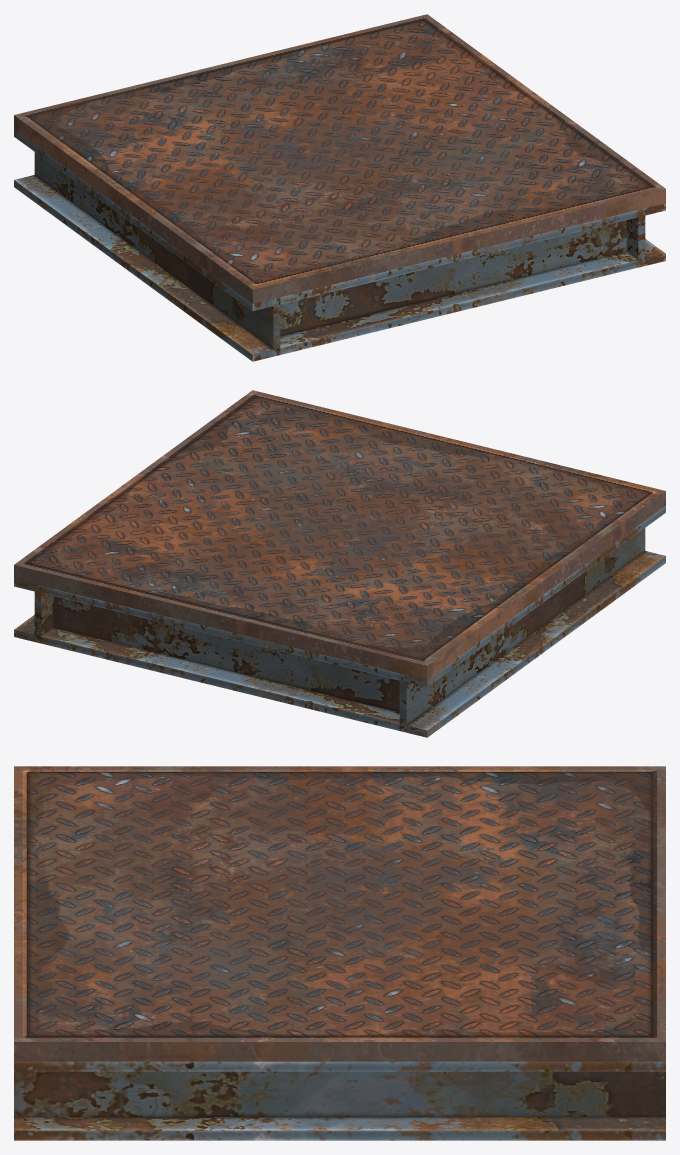
Rendered from platform_1.5x1.5m.fbx.
3 renders of one model, top to bottom at view 1: azimuth 30°, elevation 25°; view 2: azimuth 150°, elevation 25°; view 3: azimuth 270°, elevation 25°, orthographic. The views are drawn at different scales.
Parts seen in each view (by area): view 1: platform_1.5x1.5m; view 2: platform_1.5x1.5m; view 3: platform_1.5x1.5m.
Part boxes in pixels (x1,y1,x2,y2): platform_1.5x1.5m: [14, 14, 665, 361]; platform_1.5x1.5m: [14, 390, 665, 737]; platform_1.5x1.5m: [14, 766, 665, 1140].
Size of the model in its own units: 150 by 25 by 150.
